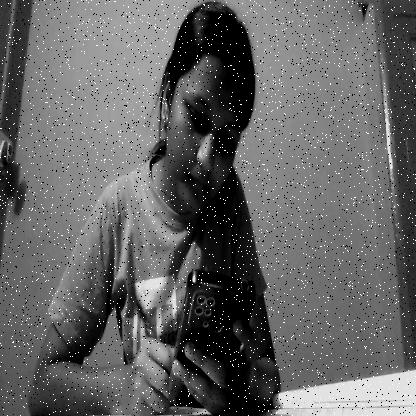Distracted: (154, 6, 263, 228)
